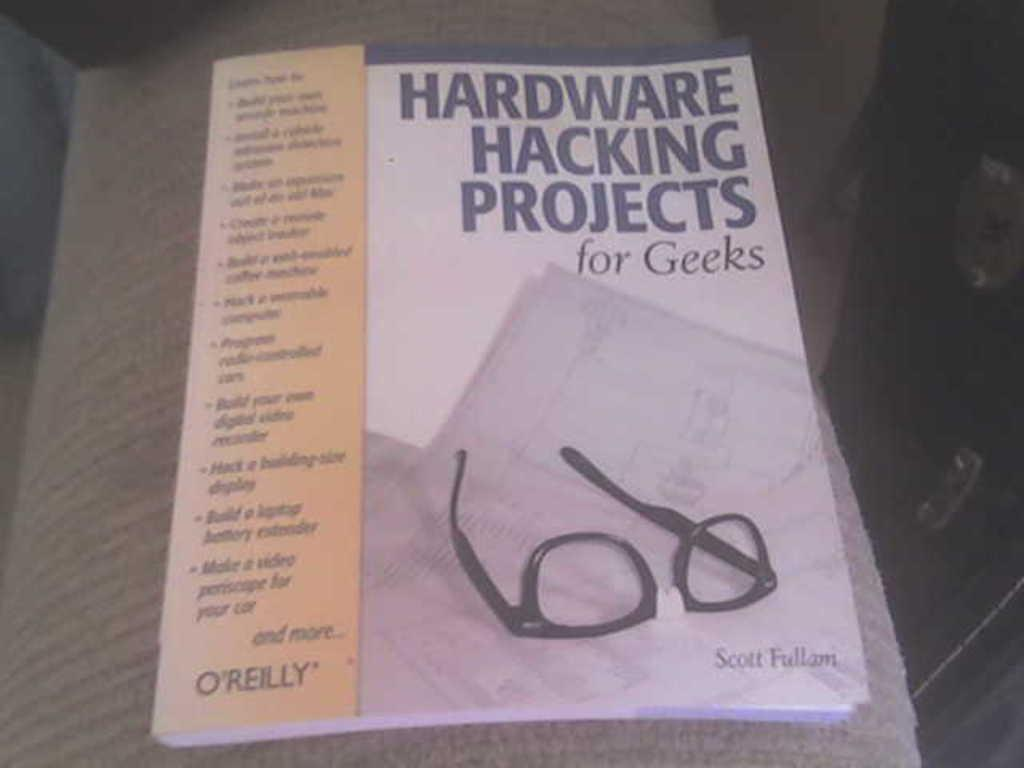book: (149, 35, 875, 744)
